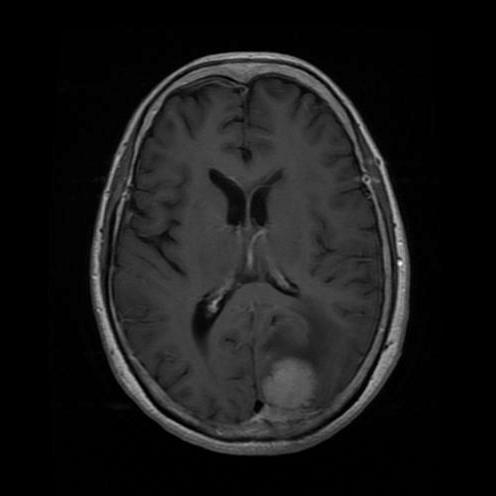Tumour-Meningioma: (248, 350, 329, 411)
